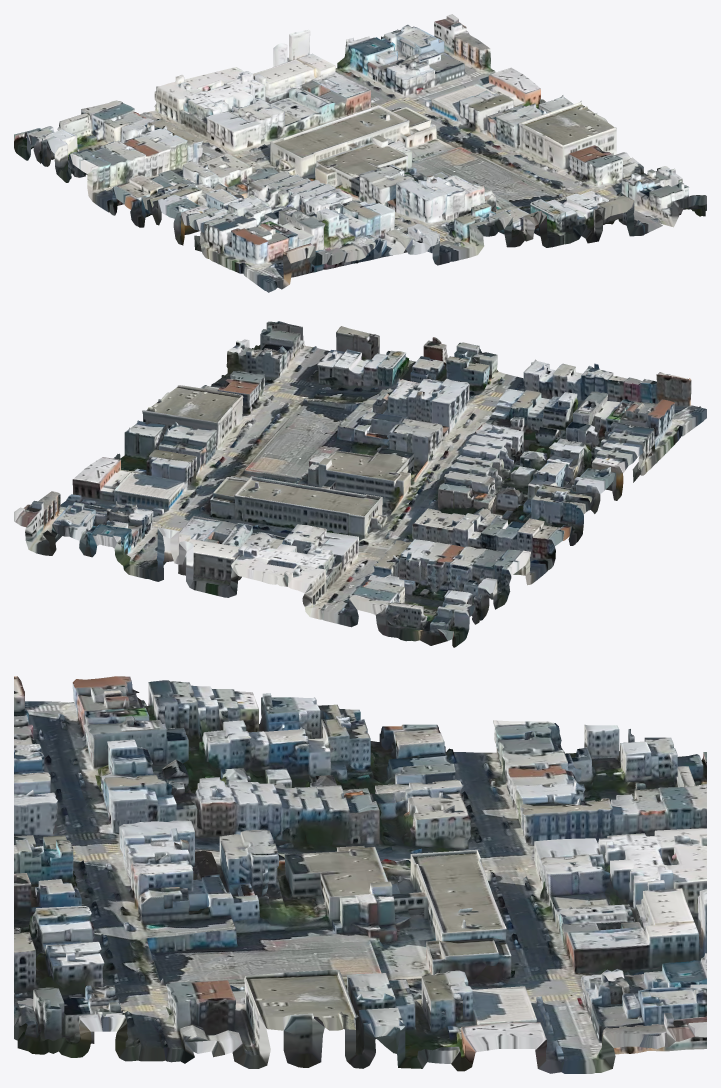
Rendered from z17-20967-50648-h0-yup-uvflip-v3-world.glb.
3 renders of one model, top to bottom at view 1: azimuth 30°, elevation 25°; view 2: azimuth 150°, elevation 25°; view 3: azimuth 270°, elevation 25°, orthographic. The views are drawn at different scales.
Size of the model in its own units: 241 by 45.44 by 243.
Materials: 1 (1 with a texture image).
